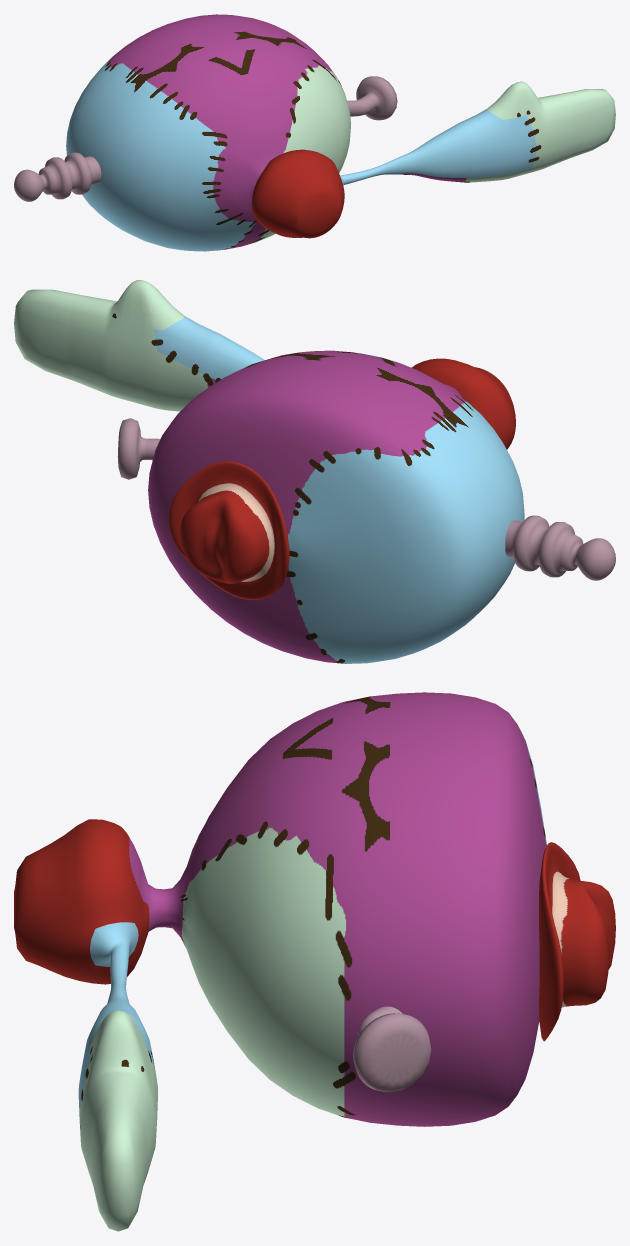
Rendered from CAMELIA.fbx.
3 views of the same model, one above another, from view 1: azimuth 30°, elevation 25°; view 2: azimuth 150°, elevation 25°; view 3: azimuth 270°, elevation 25° (orthographic). The views are drawn at different scales.
Visible parts, largest first — view 1: Cylinder003; view 2: Cylinder003; view 3: Cylinder003.
Part boxes in pixels (box(x1,y1,x2,y2)): Cylinder003: box(14, 14, 615, 251); Cylinder003: box(14, 280, 615, 663); Cylinder003: box(14, 692, 615, 1231).
Bounding box in the file's own units: 104 × 38.95 × 57.
